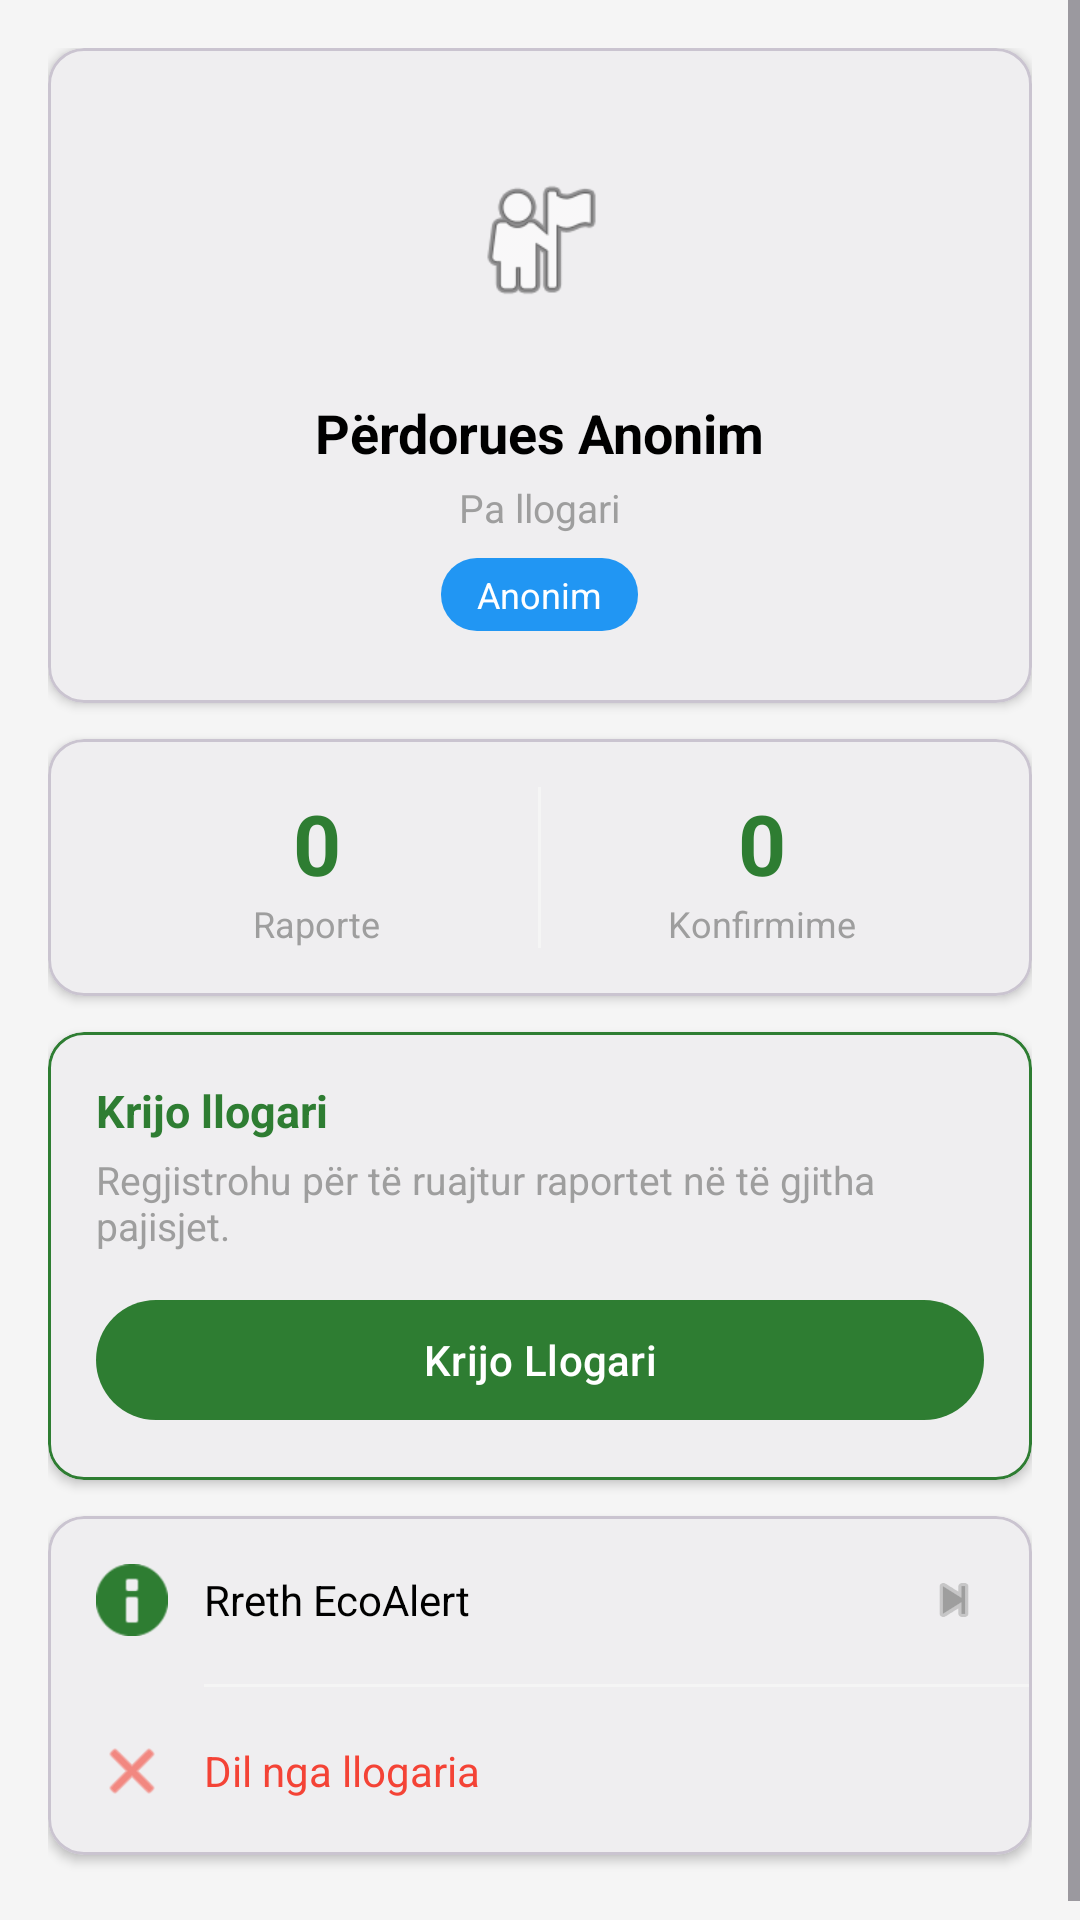

Icon bounding boxes for this 1080w x 1920h phone screenshot, format (x1, y1, x2, y2):
close clear cancel: (110, 1749, 154, 1793)
info: (96, 1564, 168, 1636)
myplaces: (487, 186, 596, 294)
next: (940, 1583, 968, 1617)
